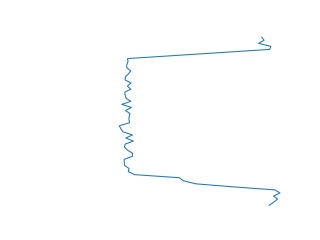distributaryChannelFill: (118, 37, 285, 207)
